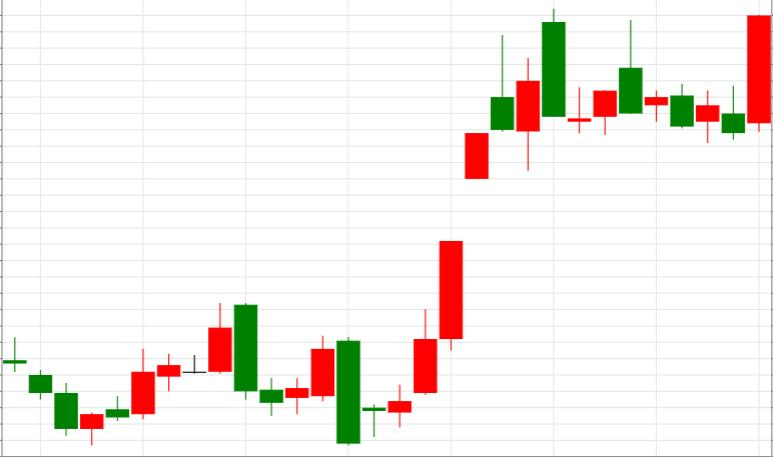bearish_engulfing_fall: (79, 302, 258, 444)
shooting_star_fall: (388, 34, 514, 426)
